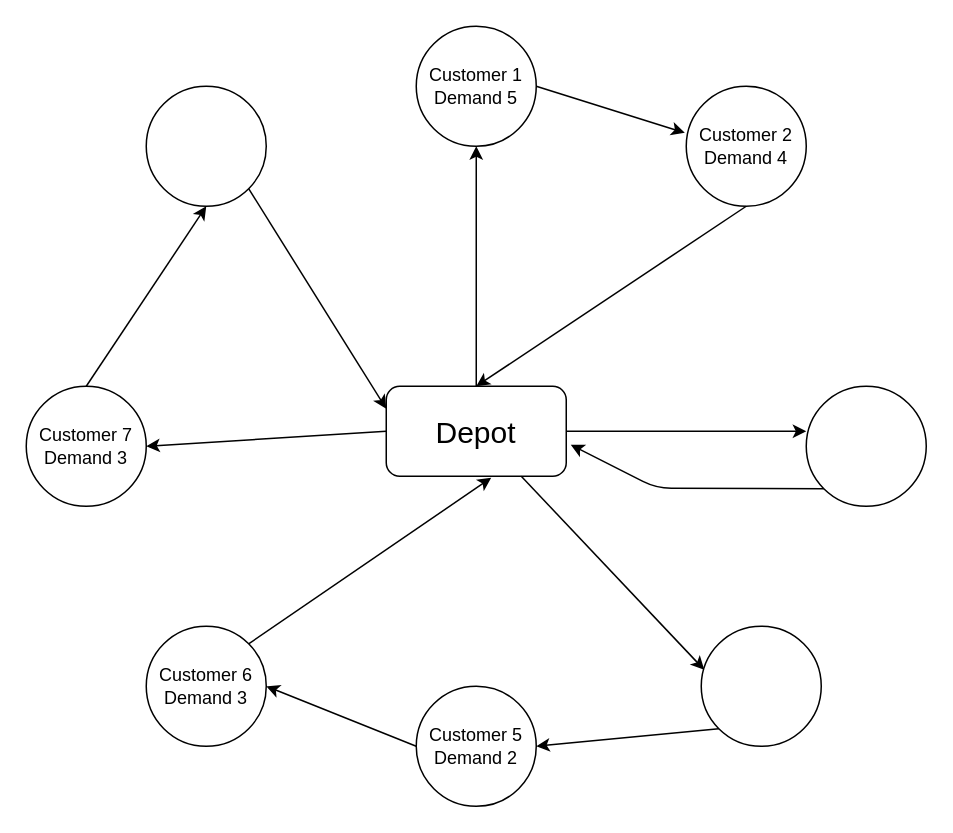
Some shapes in this 953 by 833 pixel diagram are drawn without their labels. Each missing label, with the centre of its shape:
"Customer 3 Demand 6" belongs at pixel 865 445.
"Customer 4 Demand 5" belongs at pixel 760 685.
"Customer 8 Demand 4" belongs at pixel 205 145.
